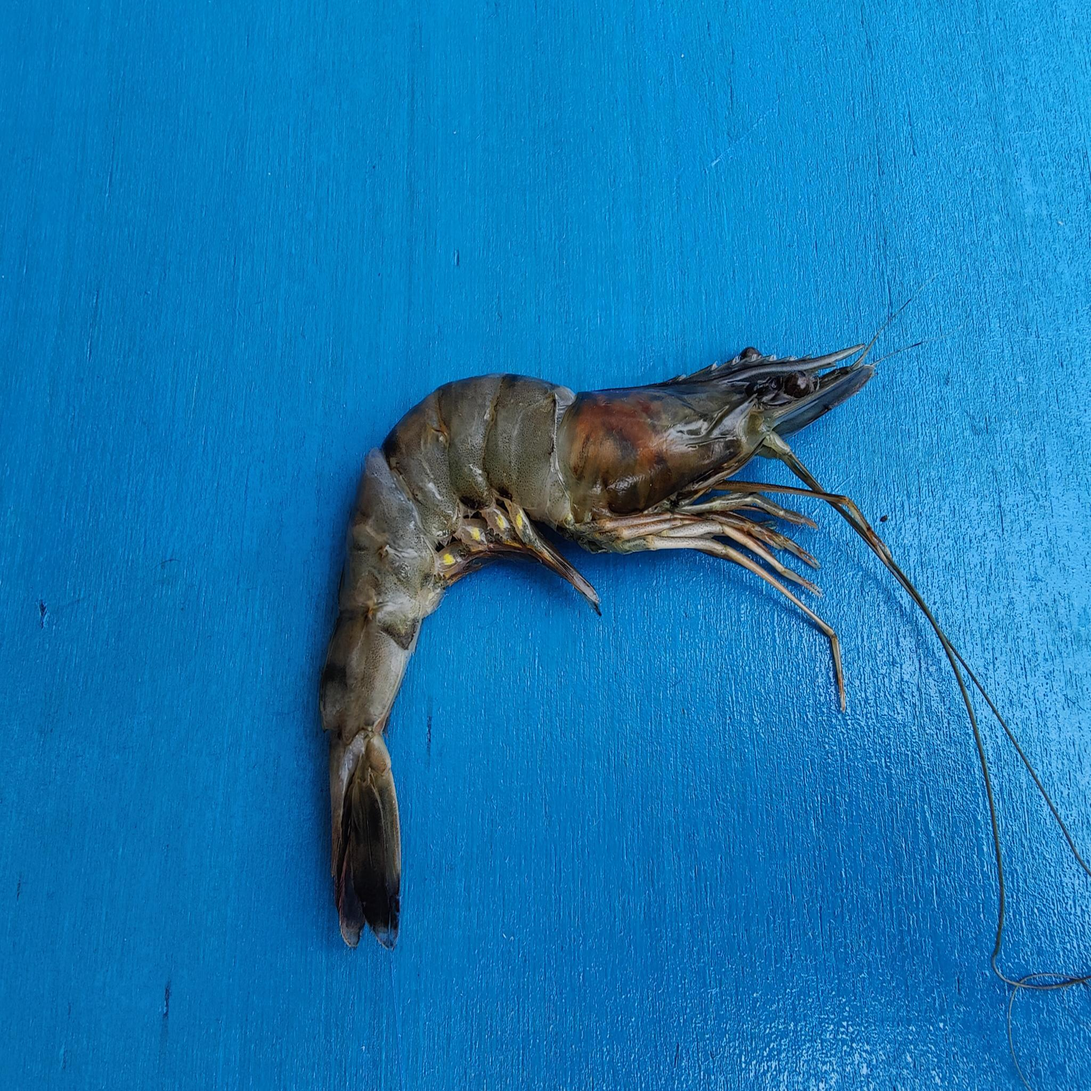blackgill: (571, 420, 744, 519)
